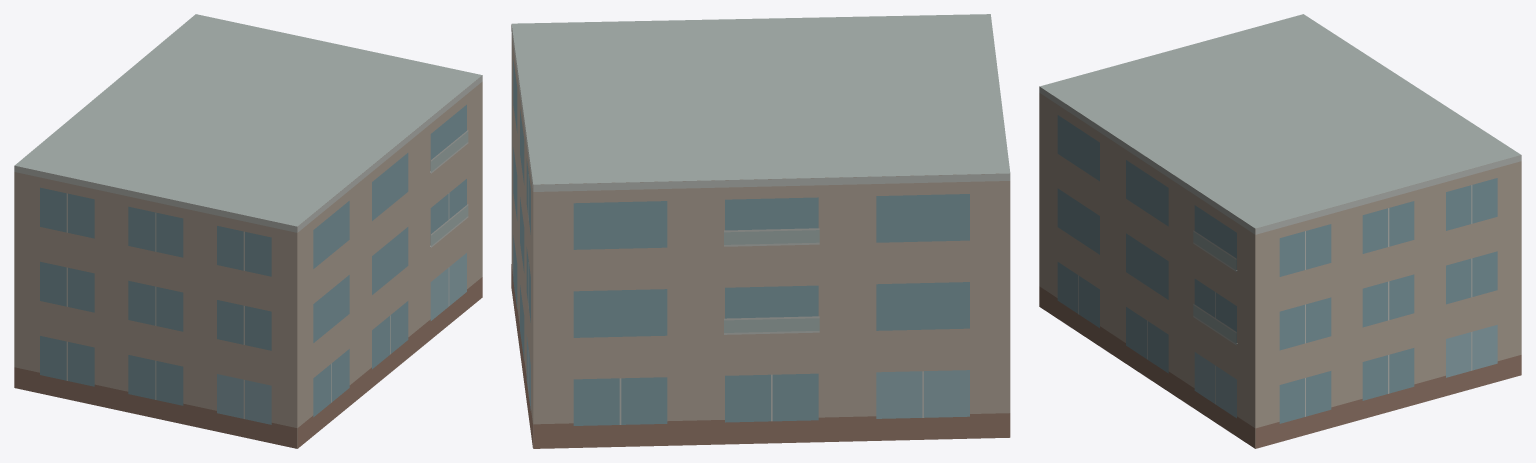
The model's file is survey-upis-32616184.glb.
3 views of the same model, side by side, from view 1: azimuth 30°, elevation 25°; view 2: azimuth 150°, elevation 25°; view 3: azimuth 270°, elevation 25° (orthographic). The views are drawn at different scales.
Parts seen in each view (by area): view 1: survey-upis-32616184.tmp; view 2: survey-upis-32616184.tmp; view 3: survey-upis-32616184.tmp.
Boxes of the visible parts, box(x1,y1,x2,y2) form: survey-upis-32616184.tmp: box(14, 14, 482, 448); survey-upis-32616184.tmp: box(511, 14, 1010, 448); survey-upis-32616184.tmp: box(1039, 14, 1521, 448).
Bounding box in the file's own units: 18.09 × 8.65 × 17.17.
